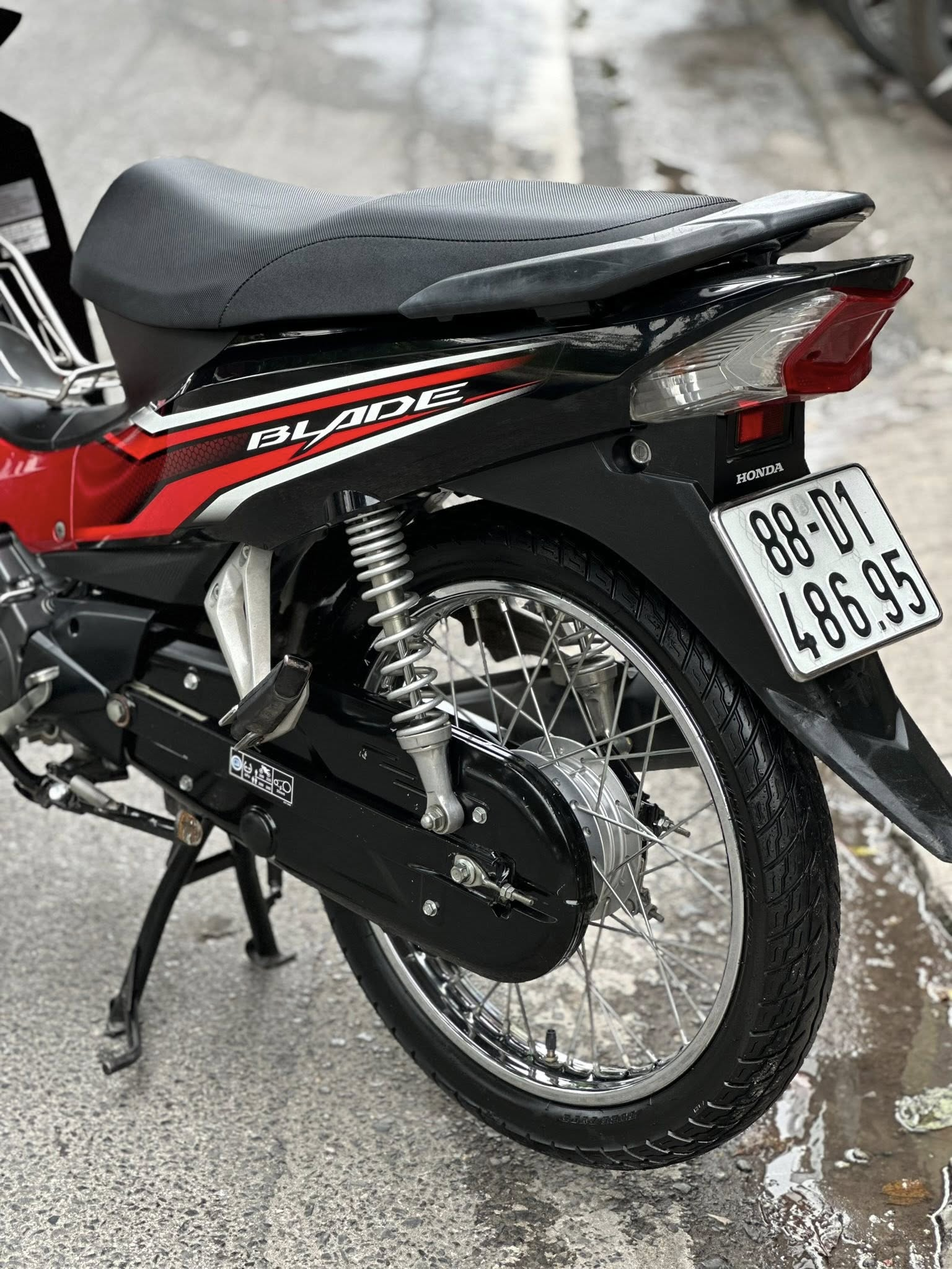bien_so: (703, 456, 945, 695)
